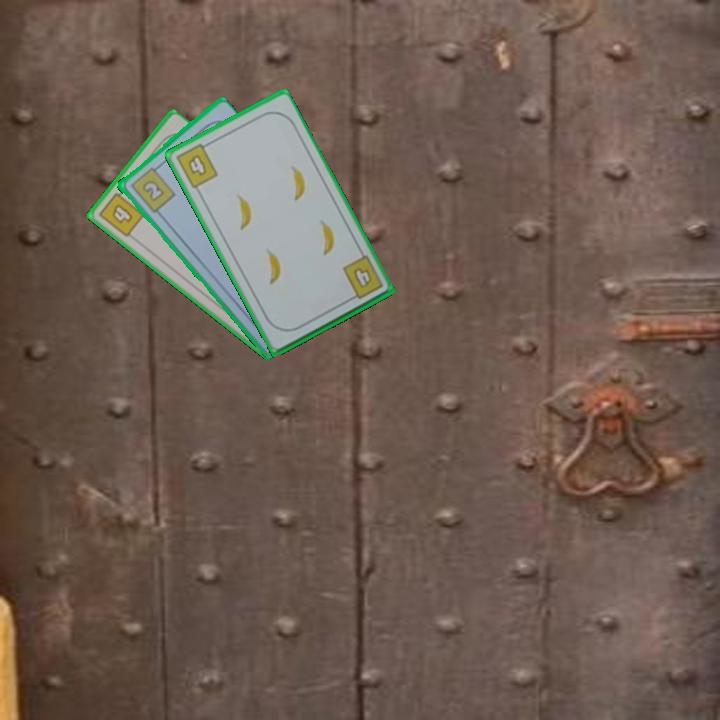2b: (126, 161, 178, 215)
4b: (95, 184, 147, 240), (172, 138, 221, 191), (338, 252, 386, 304)
